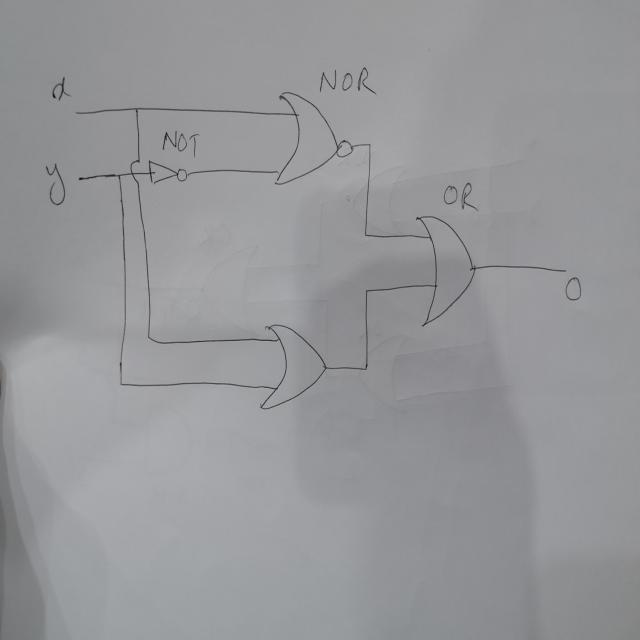crossover: (128, 157, 142, 186)
junction: (361, 358, 372, 374), (365, 139, 374, 150), (145, 330, 152, 343), (117, 377, 124, 389), (113, 170, 121, 180), (362, 229, 369, 240), (363, 285, 370, 295), (133, 104, 140, 114)
terminal: (76, 171, 86, 184), (560, 265, 568, 275), (73, 109, 80, 118)
text: (318, 64, 376, 98), (441, 179, 479, 212), (159, 128, 200, 158), (44, 161, 68, 208), (50, 73, 73, 103), (563, 274, 583, 302)
